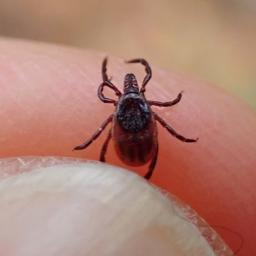Ixodes scapularis: (72, 58, 199, 181)
